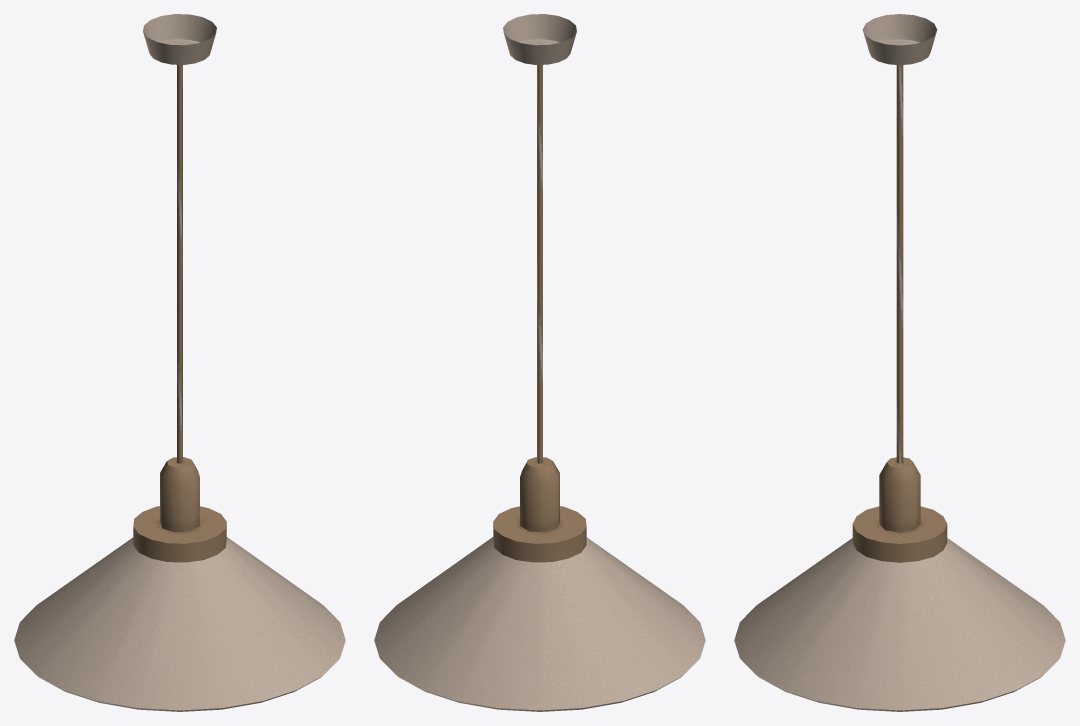
Rendered from LampCeiling.fbx.
3 renders of one model, left to right at view 1: azimuth 30°, elevation 25°; view 2: azimuth 150°, elevation 25°; view 3: azimuth 270°, elevation 25°, orthographic.
Parts seen in each view (by area): view 1: LampCeiling_LOD0; view 2: LampCeiling_LOD0; view 3: LampCeiling_LOD0.
Part boxes in pixels (left/top/right/bottom): LampCeiling_LOD0: left=14, top=14, right=345, bottom=711; LampCeiling_LOD0: left=374, top=14, right=705, bottom=711; LampCeiling_LOD0: left=734, top=14, right=1065, bottom=711.
Size of what is drawn, in the model's own units: 40 by 81.7 by 40.
